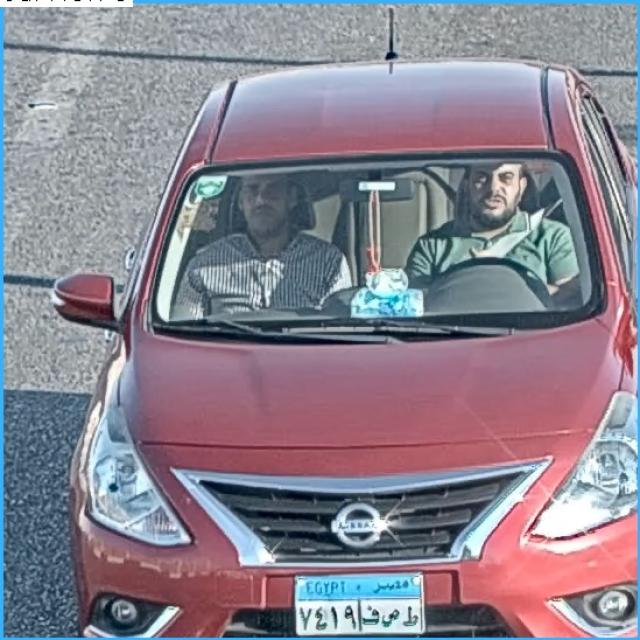windshield: (147, 150, 594, 330)
